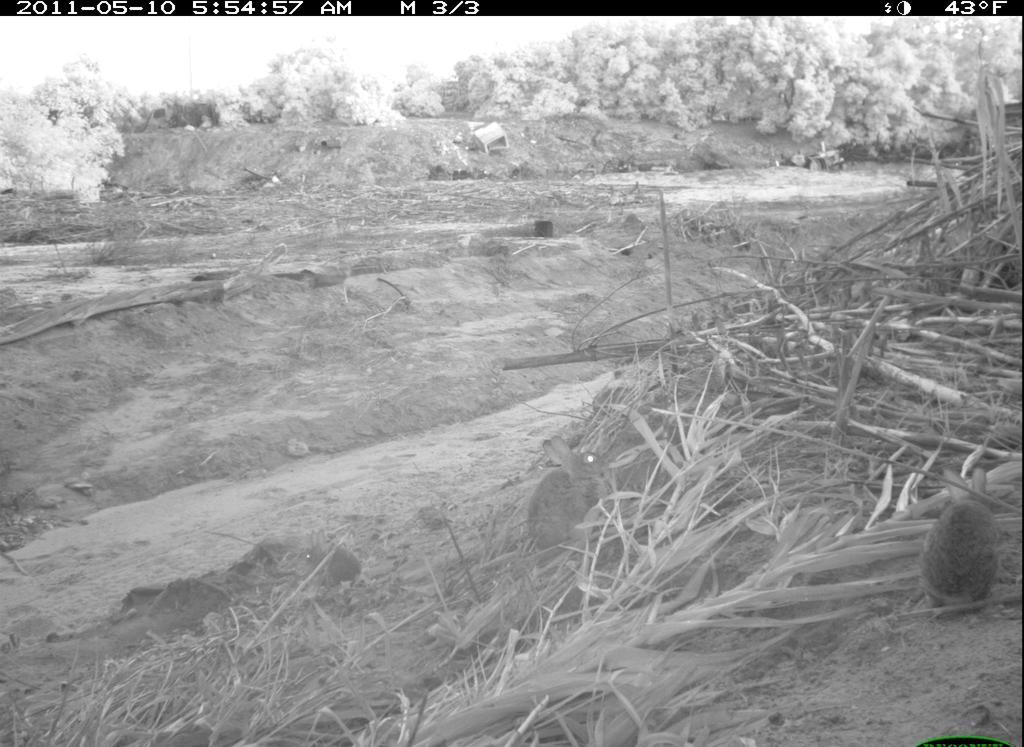rabbit: (917, 461, 1005, 625)
